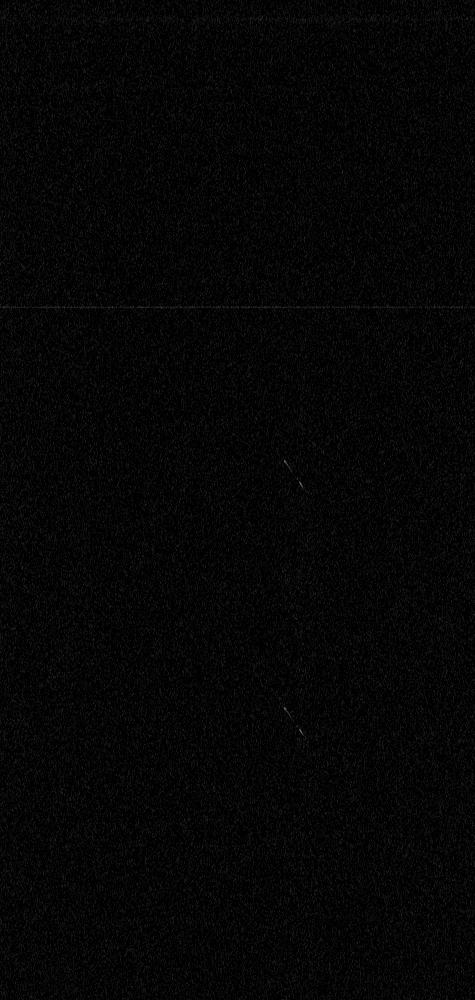signal: (0, 0, 474, 999)
